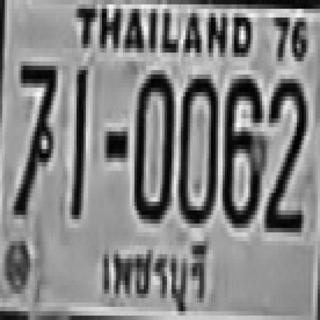N00: (132, 66, 172, 219), (176, 70, 216, 219)
N01: (71, 66, 87, 215), (70, 66, 86, 215)
N02: (263, 72, 305, 226)
N06: (220, 74, 262, 224)
N07: (14, 59, 56, 213)
P44: (96, 234, 210, 306)
